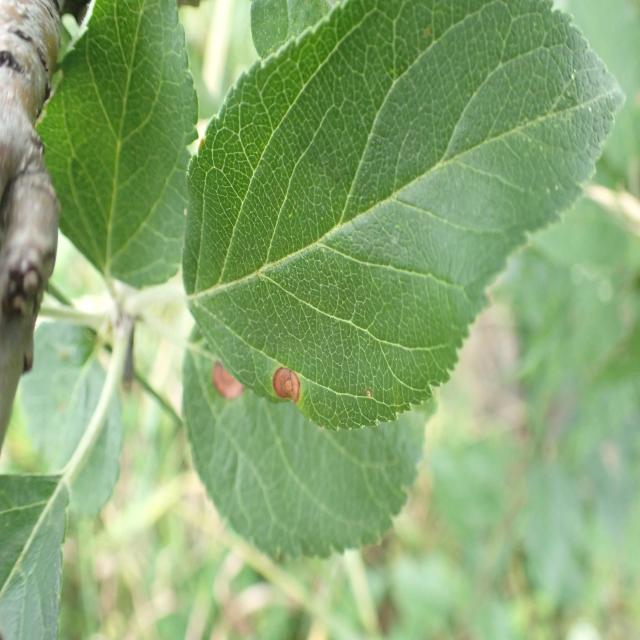Black Rot: (263, 347, 308, 423), (203, 351, 249, 424)
